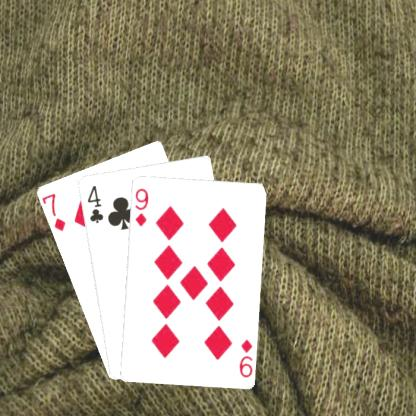4C: (84, 182, 104, 224)
7D: (40, 190, 66, 233)
9D: (236, 336, 253, 378), (133, 184, 149, 228)
